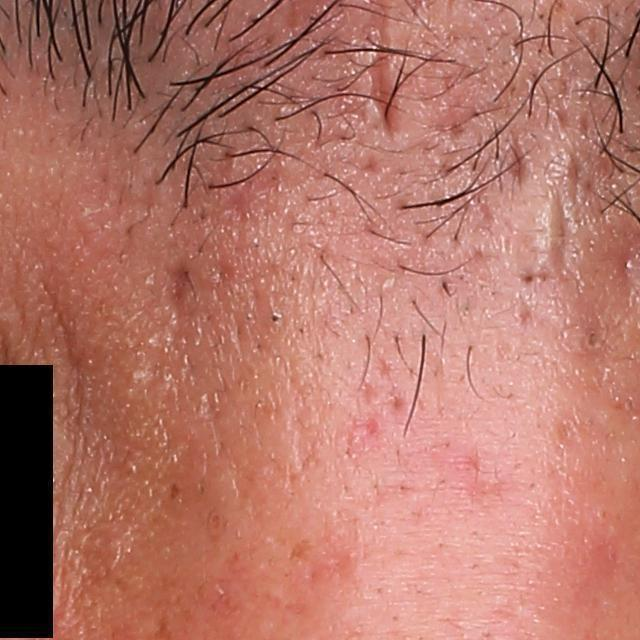atrophic_scar: (211, 162, 286, 255), (565, 144, 628, 216), (545, 183, 572, 297), (160, 259, 195, 338), (505, 138, 530, 193)
comedo: (584, 326, 598, 351)
